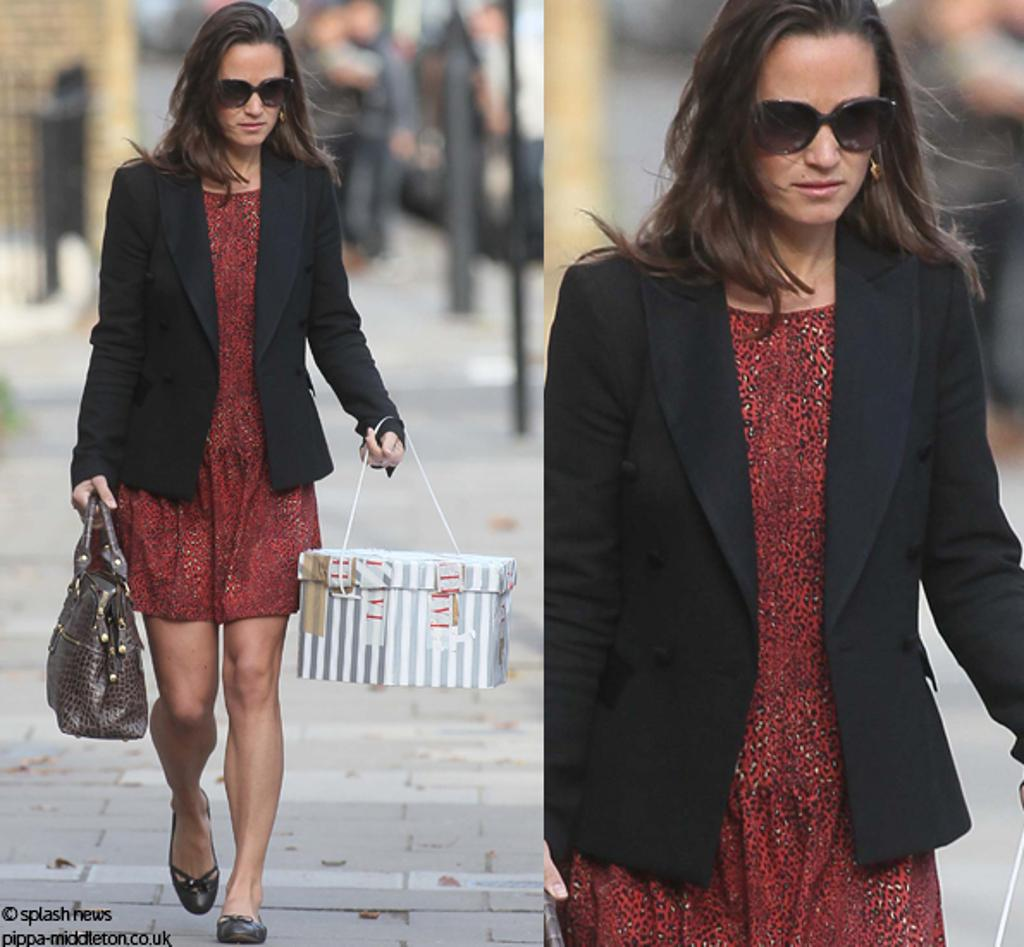face: (760, 32, 878, 224), (206, 40, 282, 144)
